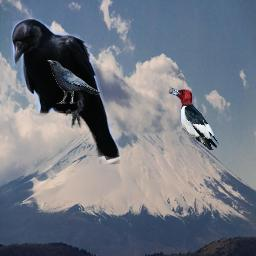Crow: (10, 18, 121, 167), (47, 60, 100, 104)
Woodpecker: (167, 86, 220, 150)
